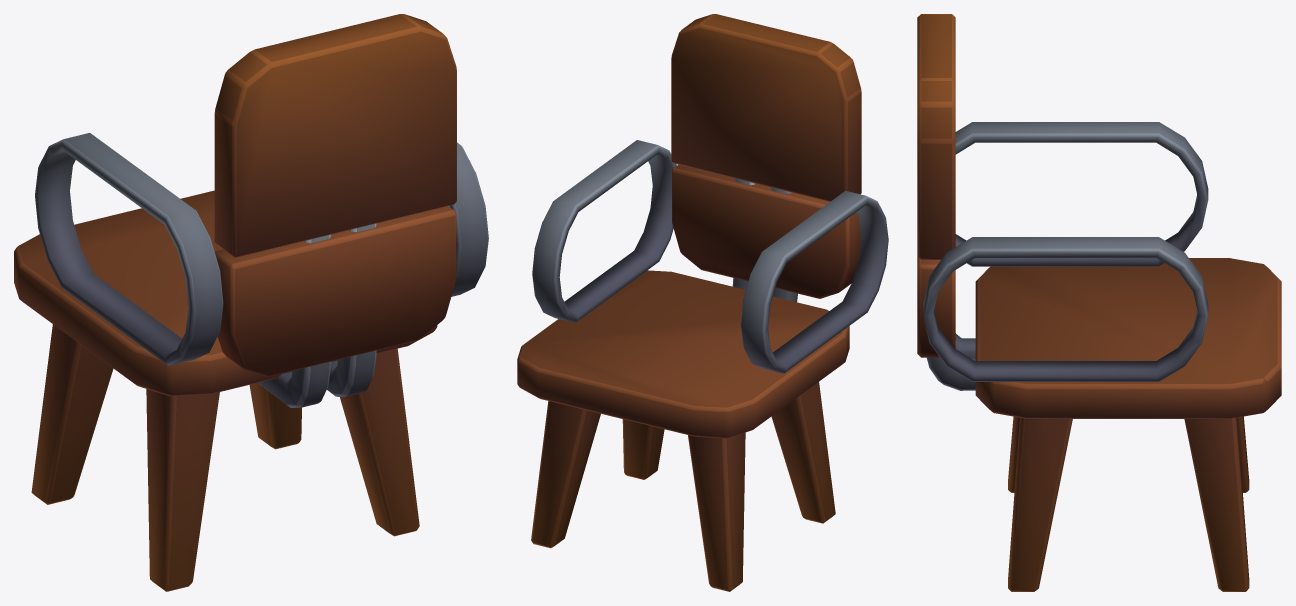
File: chair3.fbx
3 views of the same model, side by side, from view 1: azimuth 30°, elevation 25°; view 2: azimuth 150°, elevation 25°; view 3: azimuth 270°, elevation 25° (orthographic). The views are drawn at different scales.
Visible parts, largest first — view 1: chair; view 2: chair; view 3: chair.
Part boxes in pixels (x1,y1,x2,y2): chair: [14, 14, 488, 591]; chair: [517, 14, 888, 591]; chair: [917, 14, 1281, 591].
Size of the model in its own units: 159 by 283 by 190.
